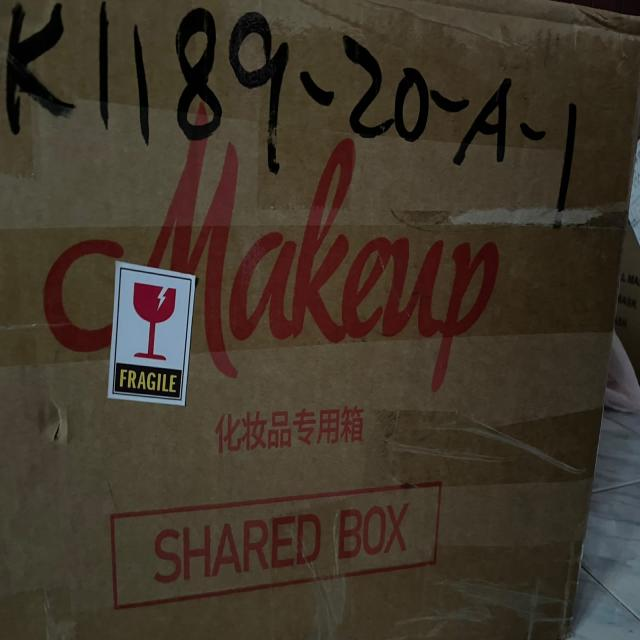carton_box: (0, 0, 640, 640)
fragile_label: (104, 243, 205, 418)
package_damage: (32, 383, 86, 469)
